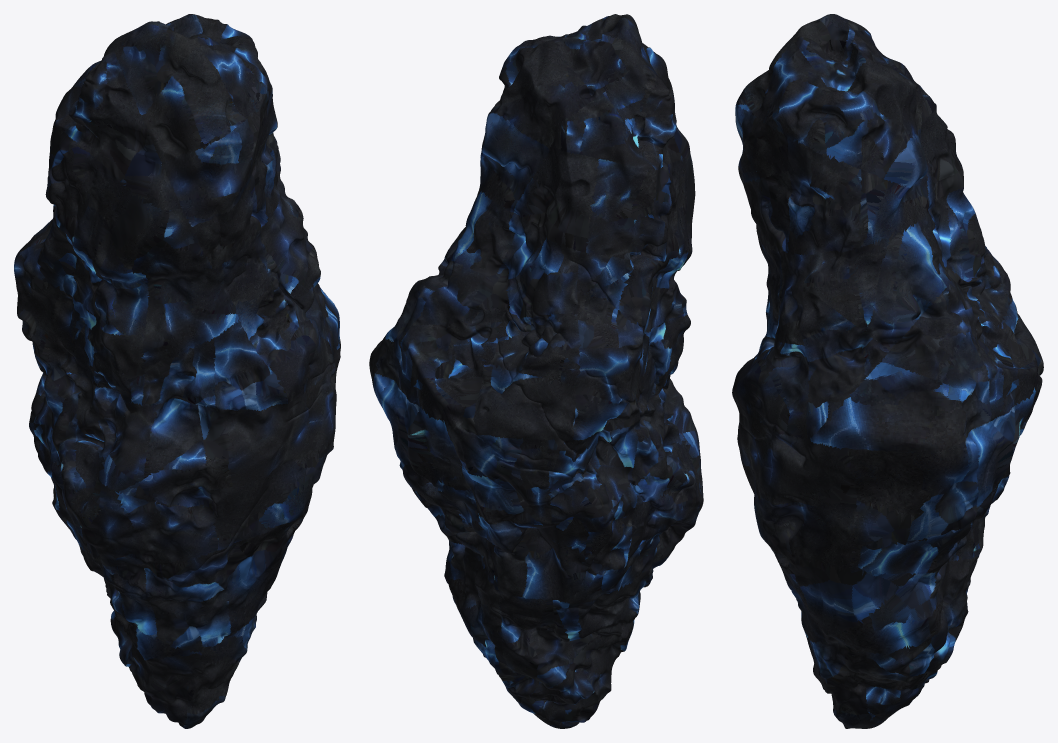
Rendered from shard-05.glb.
The picture shows the model from 3 angles, left to right: view 1: azimuth 30°, elevation 25°; view 2: azimuth 150°, elevation 25°; view 3: azimuth 270°, elevation 25°; orthographic projection. The views are drawn at different scales.
Parts seen in each view (by area): view 1: Mesh_0; view 2: Mesh_0; view 3: Mesh_0.
Boxes of the visible parts, bbox=[...] form: Mesh_0: bbox=[14, 14, 340, 728]; Mesh_0: bbox=[369, 14, 703, 728]; Mesh_0: bbox=[732, 14, 1043, 728].
Bounding box in the file's own units: 0.7921 × 1.9 × 0.7748.
1 material, 1 textured.
